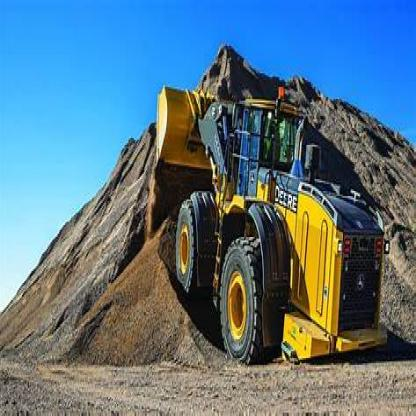bull_dozer/loader/grader: (148, 68, 394, 372)
